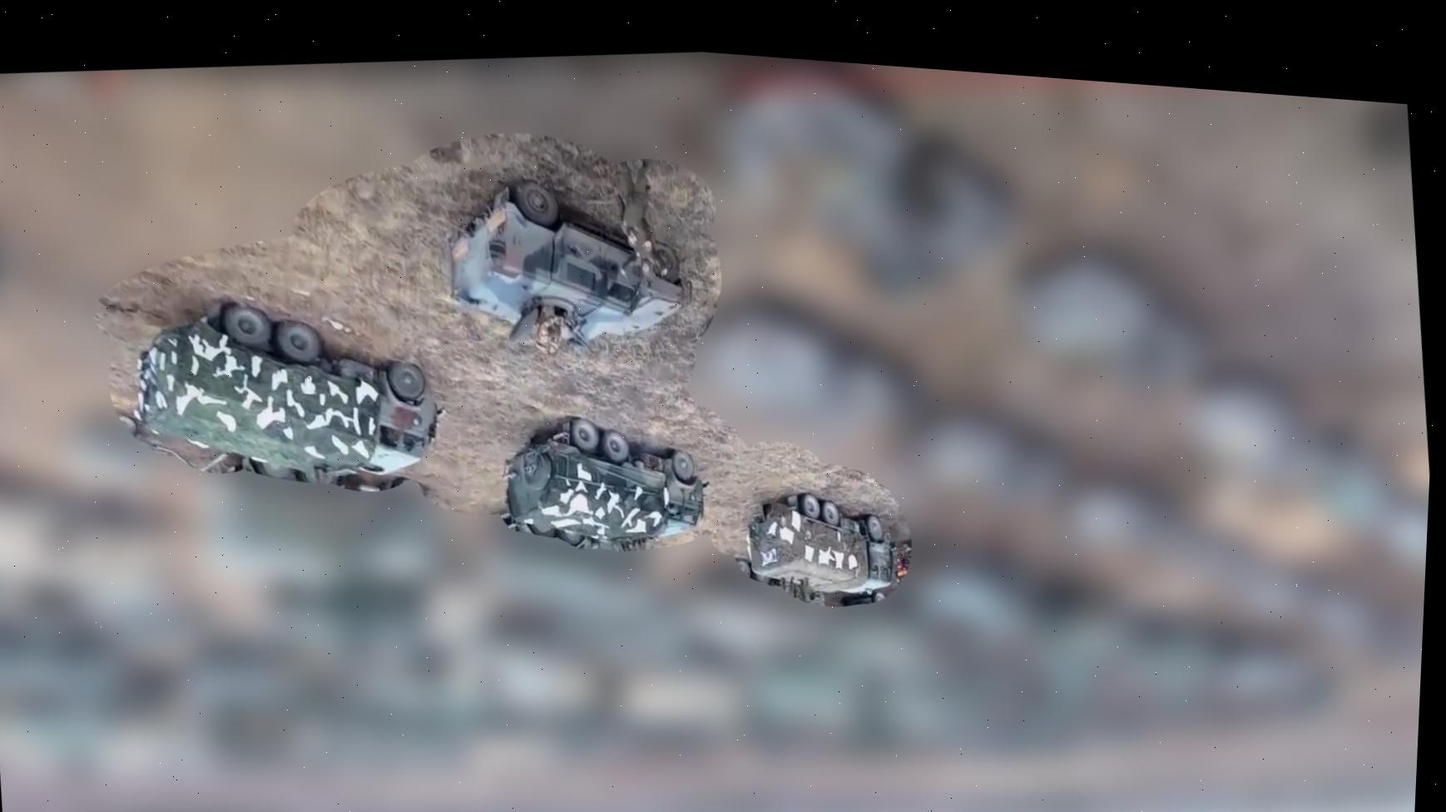armored_car: (433, 160, 692, 367)
truck: (124, 270, 454, 508), (493, 397, 722, 563), (739, 477, 907, 609)
